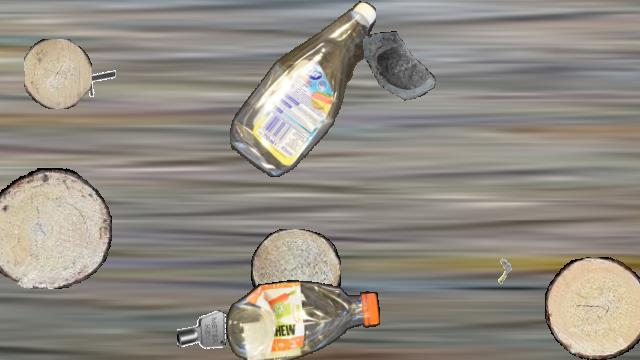glass: (363, 31, 445, 113)
metal: (177, 306, 227, 356), (482, 255, 522, 295), (78, 61, 116, 99)
plastic: (230, 1, 376, 177), (226, 279, 380, 359)
wood: (0, 168, 111, 288), (545, 257, 640, 359), (251, 229, 341, 313), (24, 39, 92, 109)
